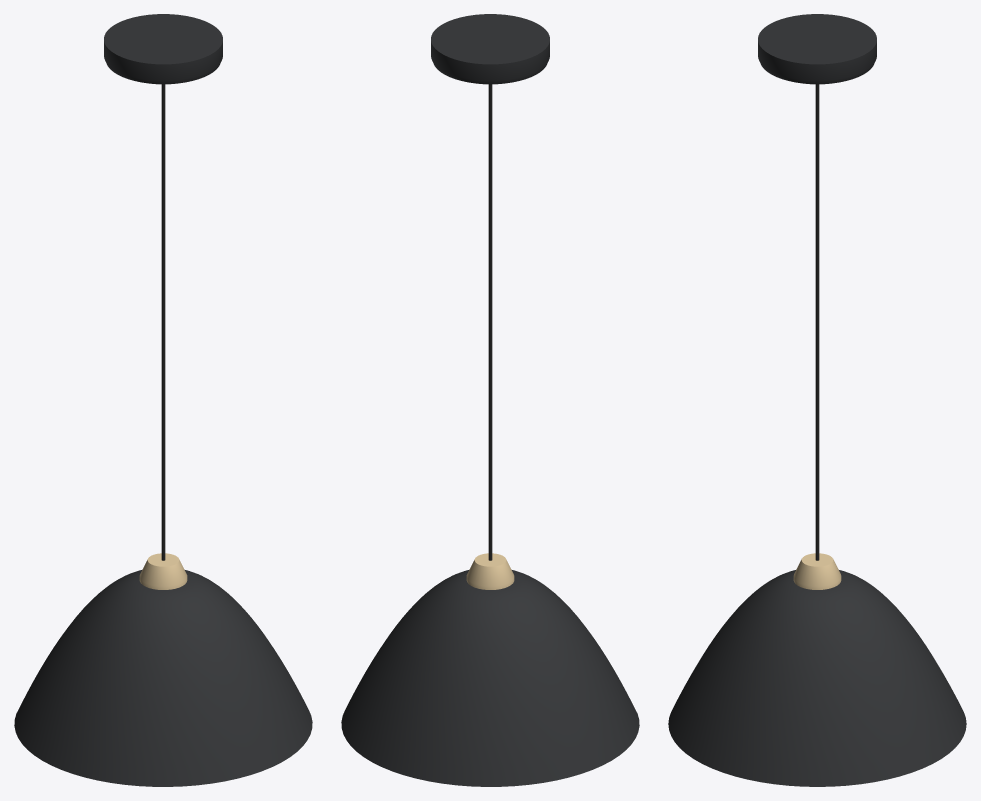
Rendered from Pendant_Lamp.fbx.
3 renders of one model, left to right at view 1: azimuth 30°, elevation 25°; view 2: azimuth 150°, elevation 25°; view 3: azimuth 270°, elevation 25°, orthographic.
Visible parts, largest first — view 1: Shade, Canopy, Cable, Collar; view 2: Shade, Canopy, Cable, Collar; view 3: Shade, Canopy, Cable, Collar.
Part boxes in pixels (<box>): Shade: <box>14,570,312,786</box>; Canopy: <box>104,14,222,84</box>; Cable: <box>161,84,165,560</box>; Collar: <box>139,553,187,589</box>; Shade: <box>341,570,639,786</box>; Canopy: <box>431,14,549,84</box>; Cable: <box>488,84,492,560</box>; Collar: <box>466,553,514,589</box>; Shade: <box>668,570,966,786</box>; Canopy: <box>758,14,876,84</box>; Cable: <box>815,84,819,560</box>; Collar: <box>793,553,841,589</box>.
Size of the model in its own units: 0.3 by 0.802 by 0.3.
